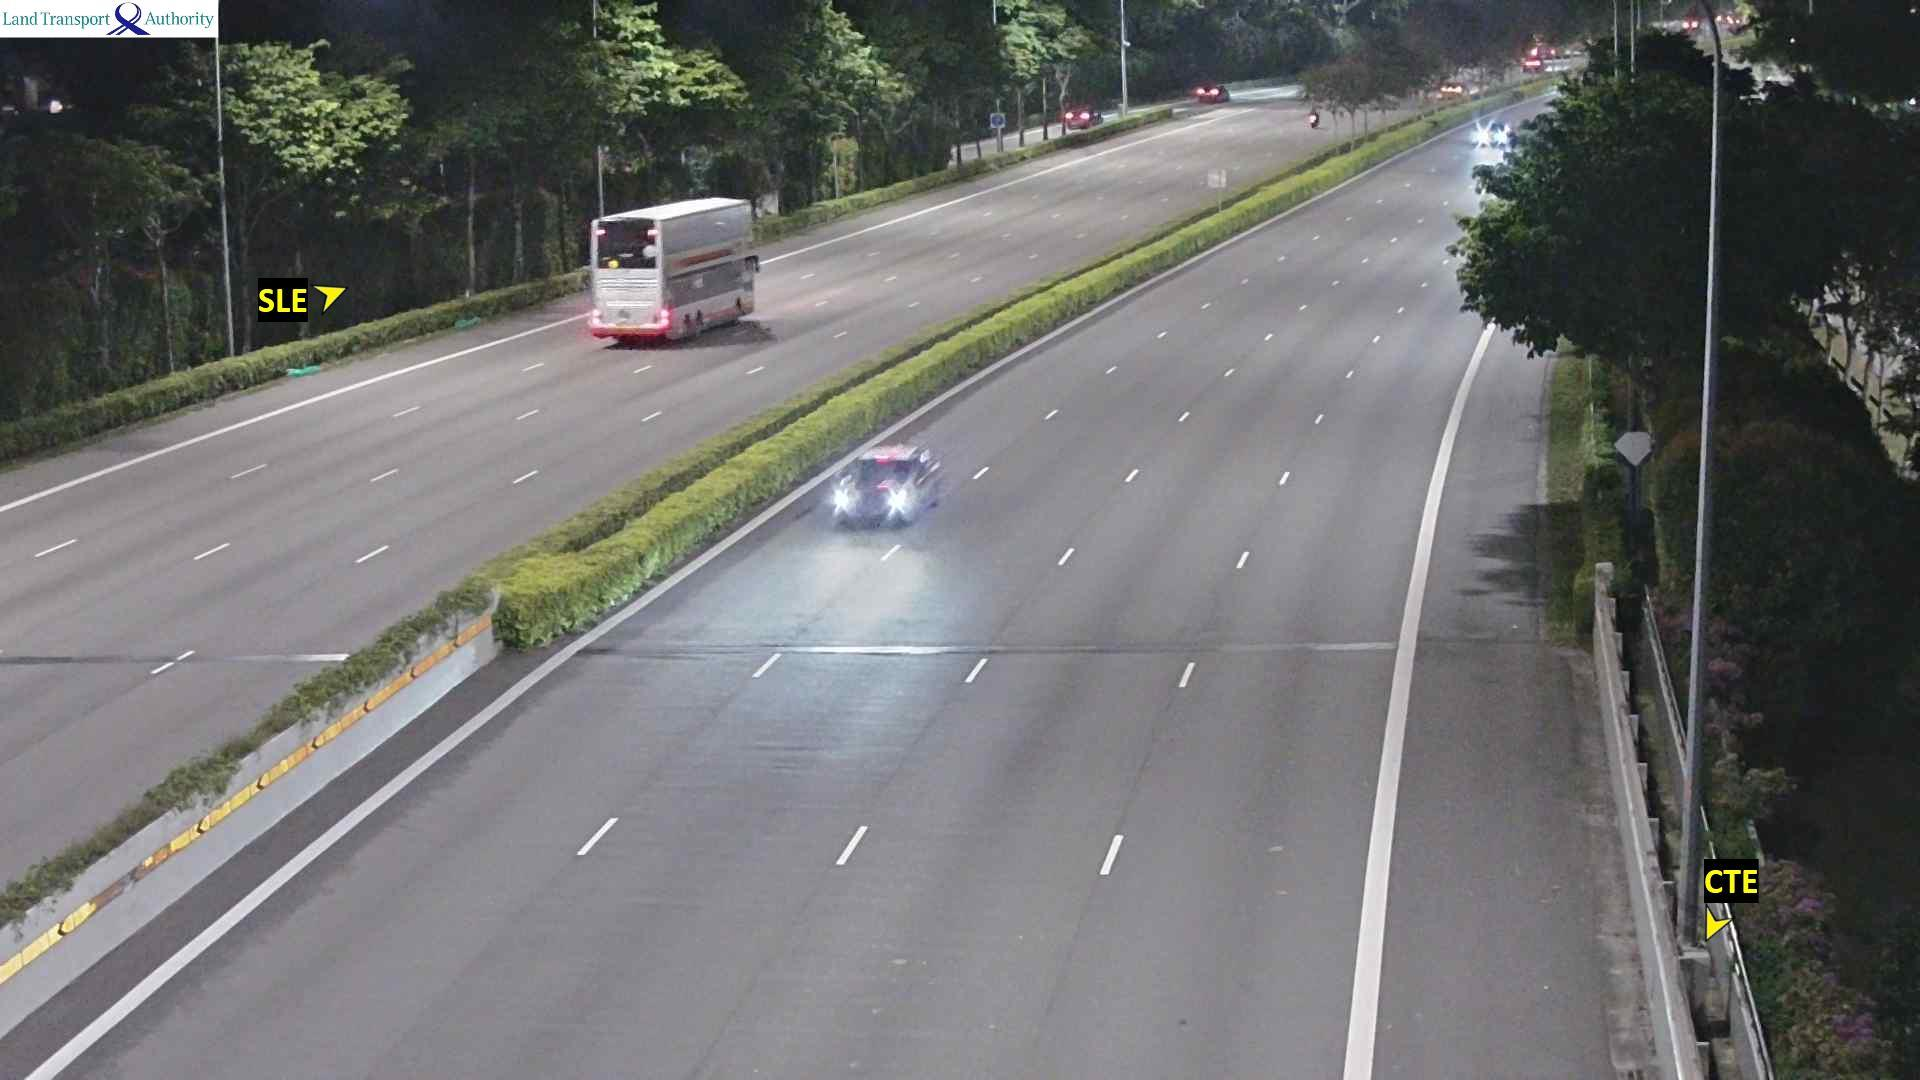cars: (829, 440, 942, 529), (1472, 117, 1513, 148), (1522, 44, 1557, 71), (1062, 107, 1100, 131), (1193, 83, 1229, 102), (1437, 78, 1466, 98)
motorcycle: (1305, 103, 1325, 133)
trucks: (585, 194, 760, 347)
